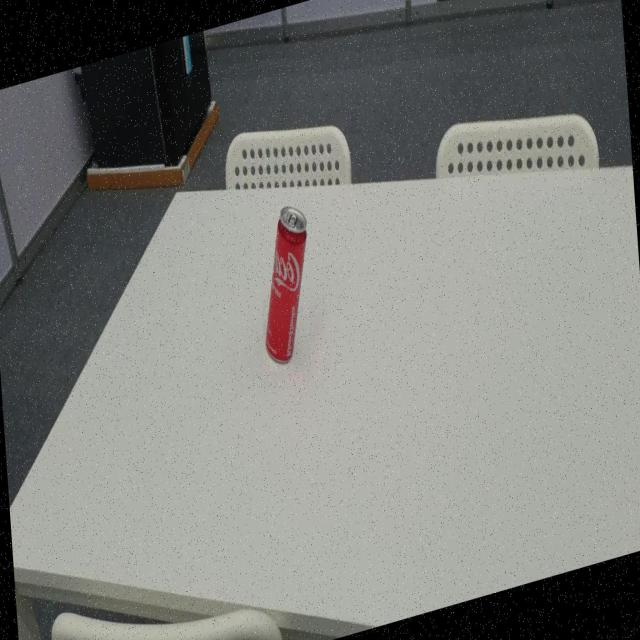coca-cola: (263, 198, 310, 372)
